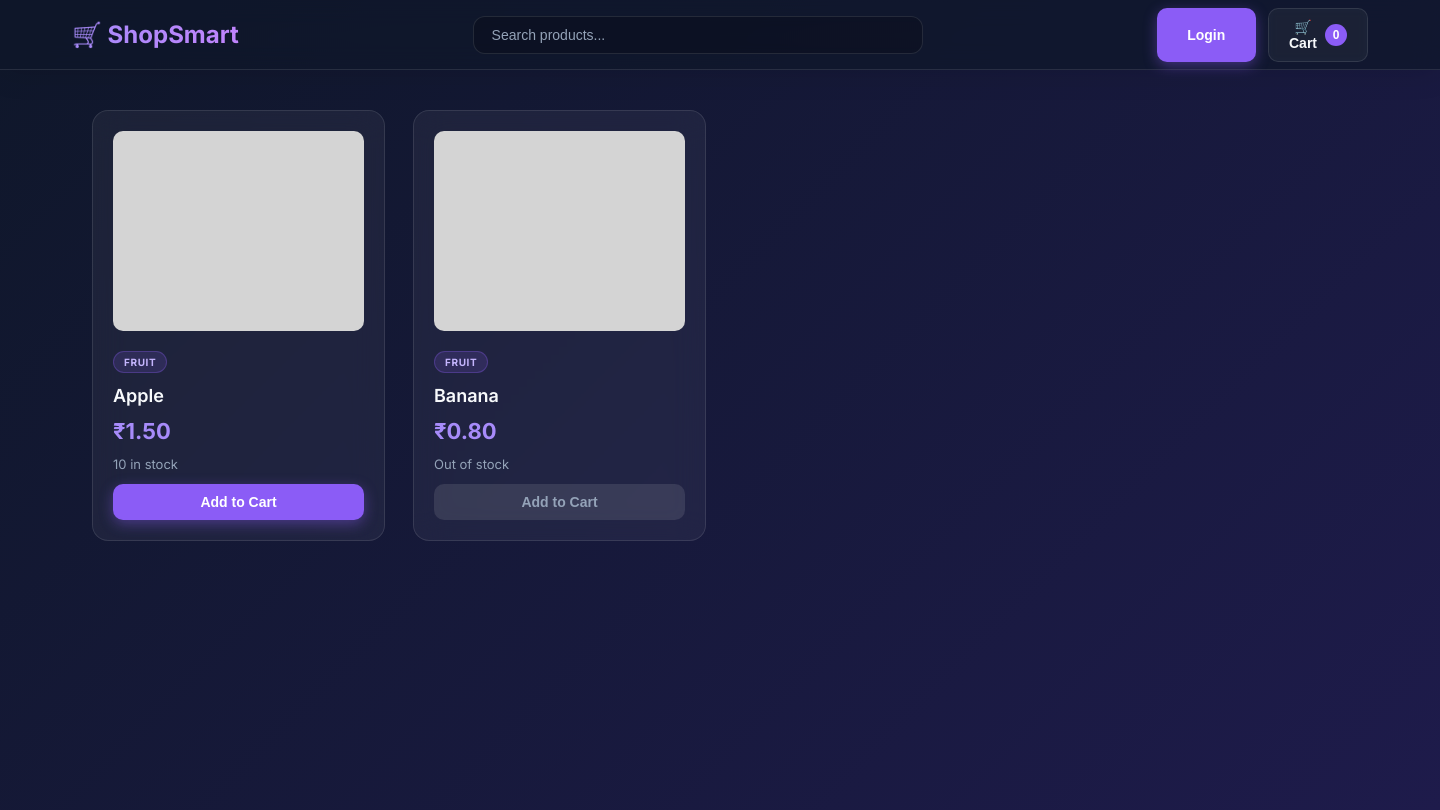
App › filters products by search input
The image size is (1440, 810).
Expected: the heading "Apple" is shown, [113,385,164,406]
Type "App" into the field with placeholder "Search products...".
click(698, 34); type("App")  # box [473,16,923,54]
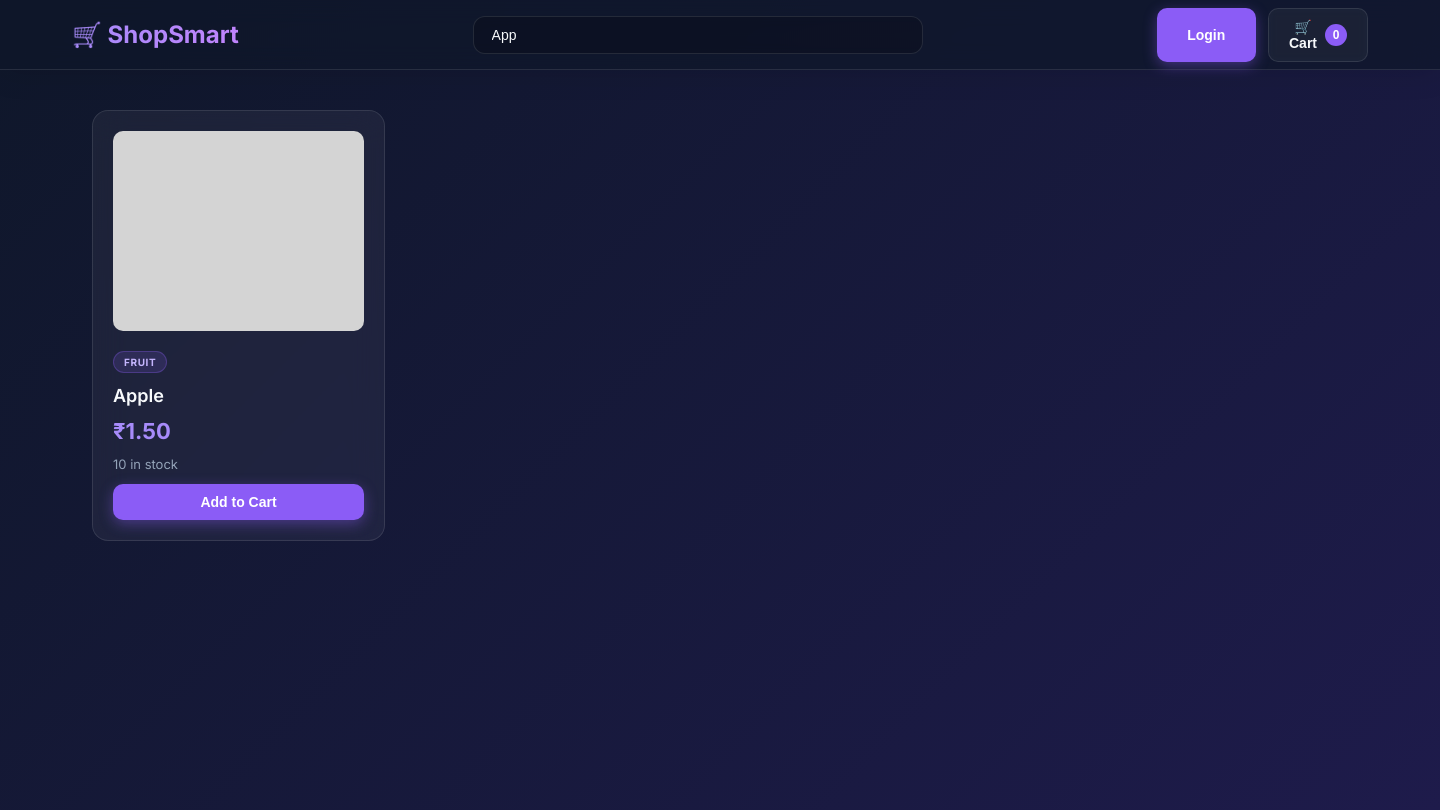
Expected: the heading "Apple" is shown, [113,385,164,406]
Result: the heading "Banana" is gone
